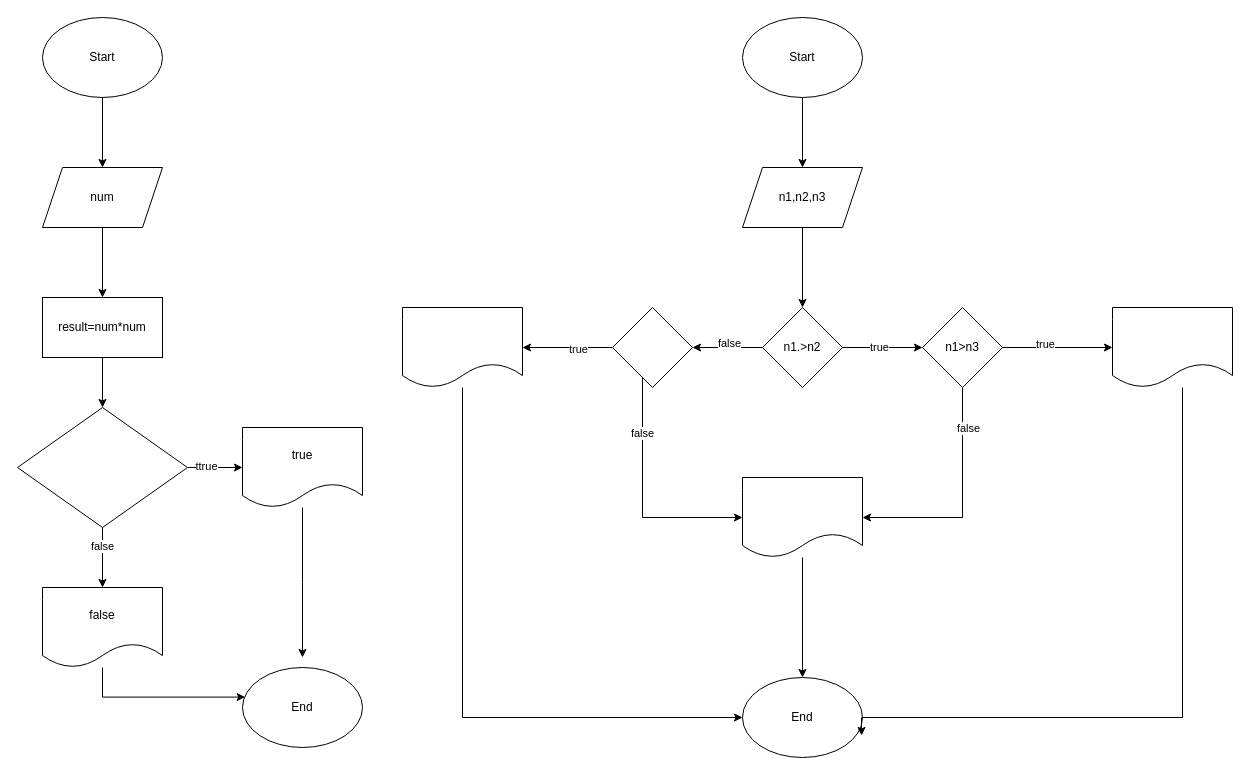
Image size: 1250x775. Some labels were removed from this diagram. The shapes that lost their labels are listed below. From the top down, each one's centre as x and y in pixels, then its label:
At pixel 462 347: "n2".
At pixel 652 347: "n2>n3".
At pixel 1172 347: "n1".
At pixel 102 467: "result>100&&result%3==0".
At pixel 802 517: "n3".
